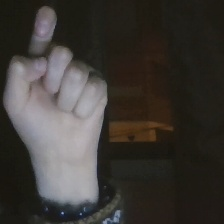X: (1, 1, 114, 167)
